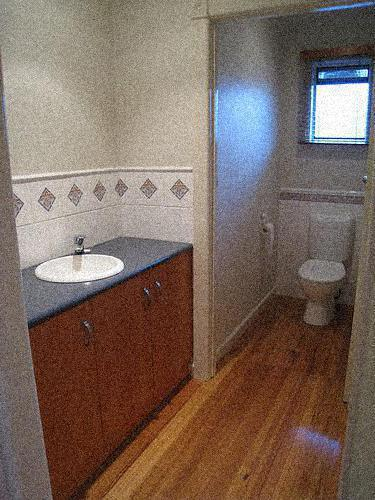Lavamanos: (32, 225, 126, 290)
Sanitario: (294, 208, 354, 329)
